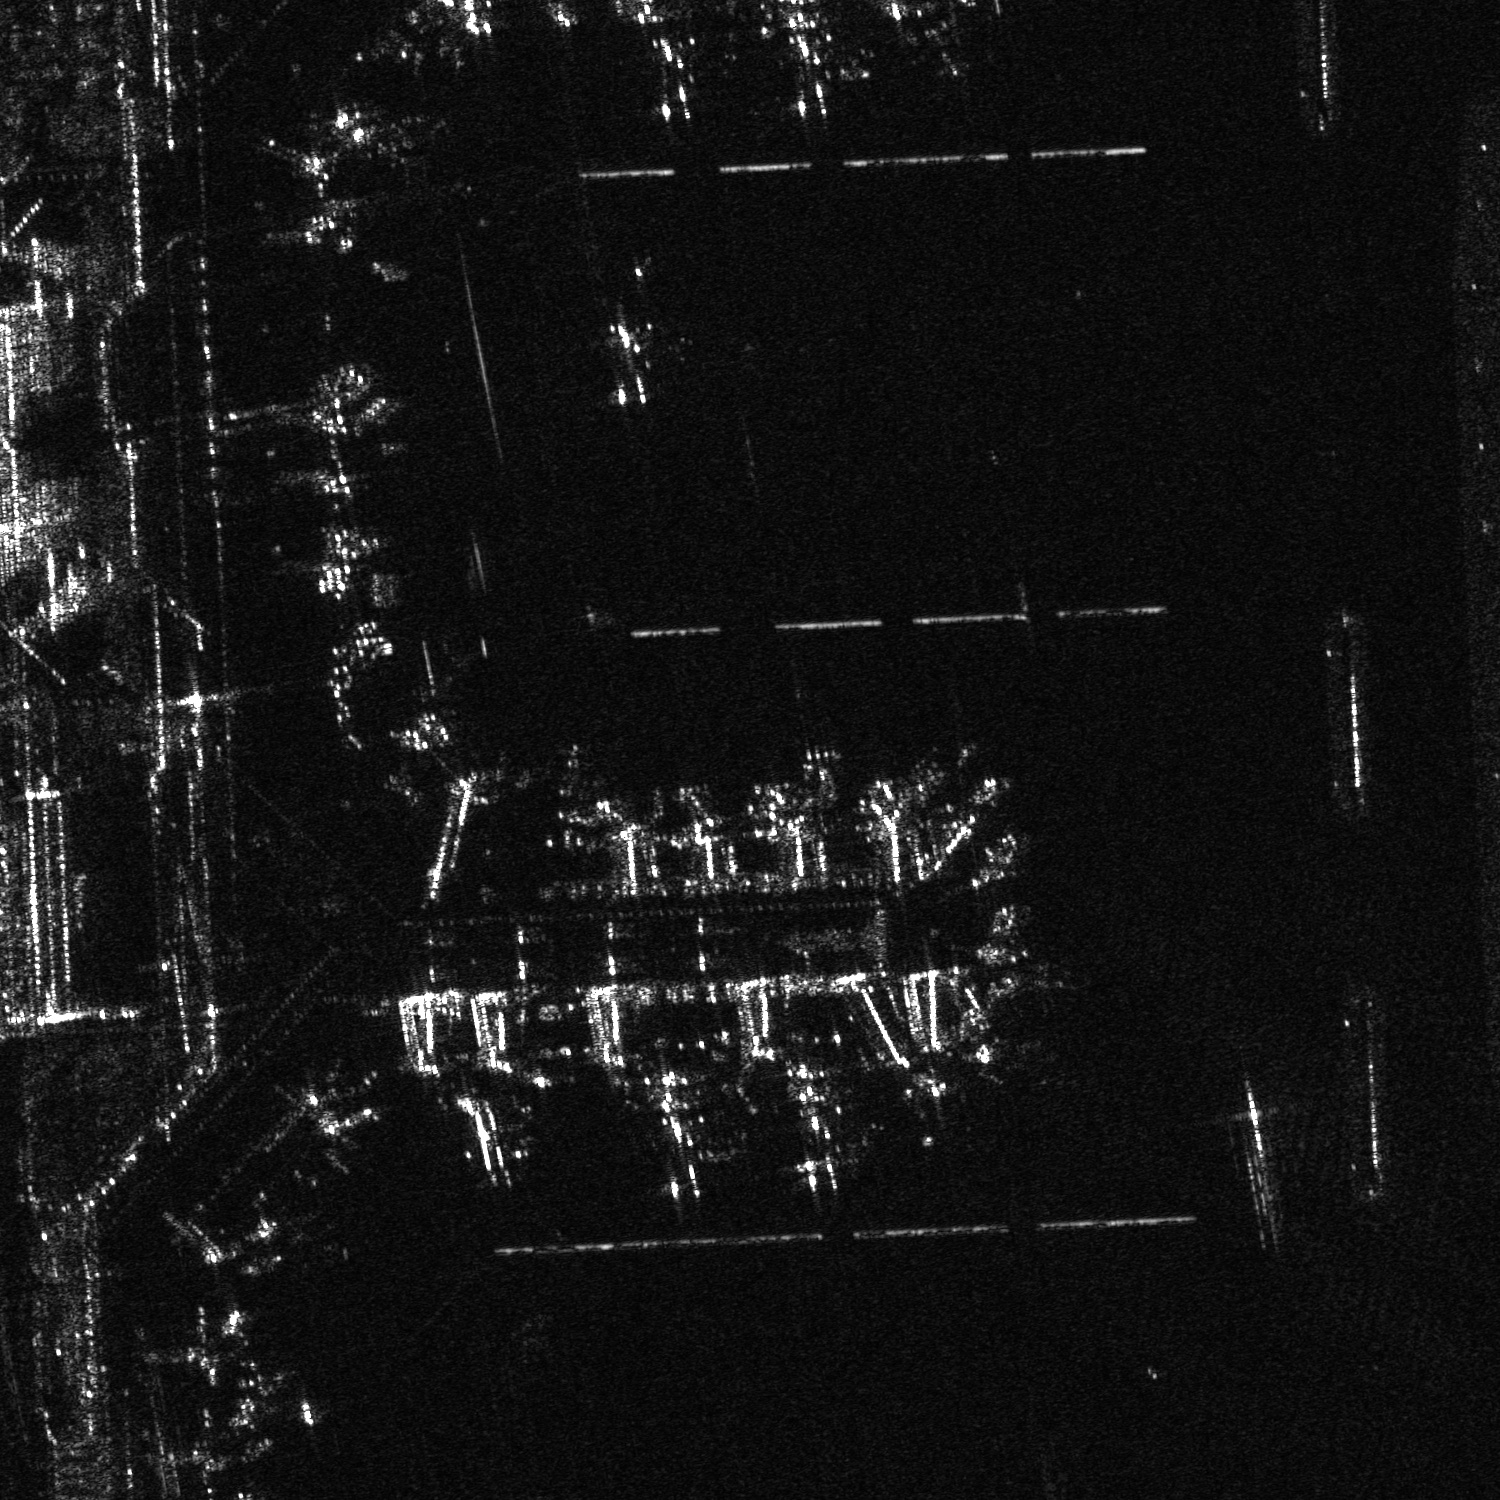A220: (440, 1088, 534, 1191)
A320/321: (179, 1216, 293, 1310), (764, 5, 861, 115), (791, 743, 848, 795)
Boeing737: (293, 1089, 385, 1159), (942, 1036, 1030, 1085)
Boeing787: (609, 1065, 716, 1198), (628, 25, 709, 124)
other: (746, 1054, 863, 1187), (591, 321, 663, 408)
